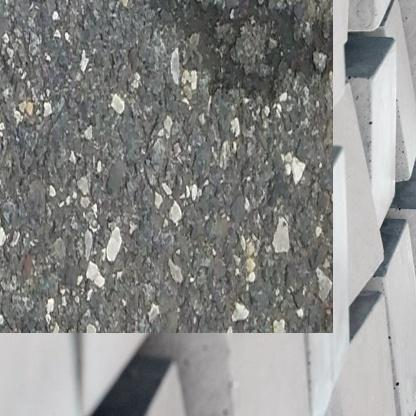Cracks: (133, 0, 308, 101)
